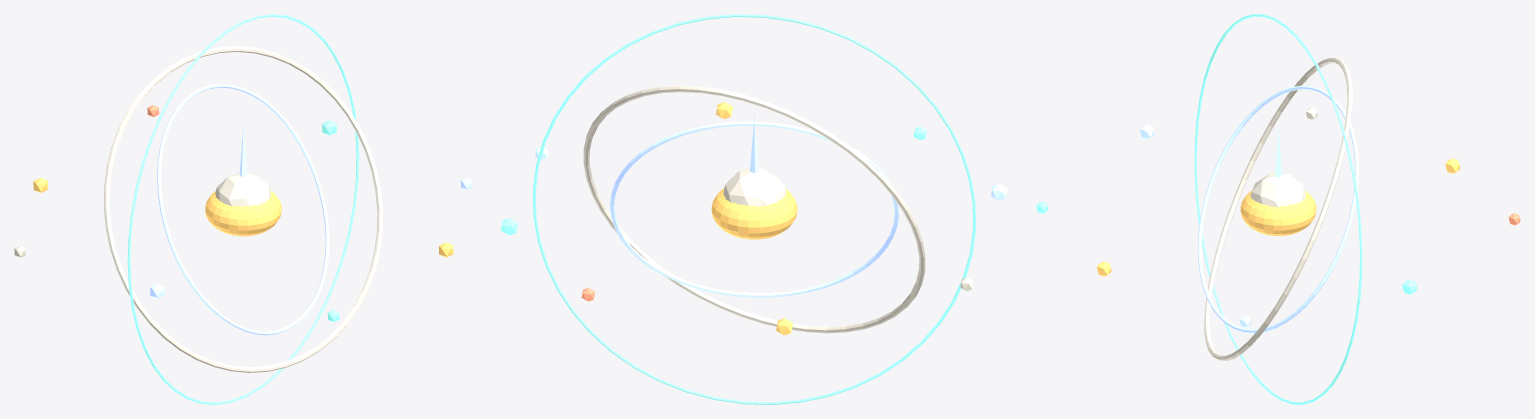
Rendered from lumina-observatory.glb.
The picture shows the model from 3 angles, left to right: view 1: azimuth 30°, elevation 25°; view 2: azimuth 150°, elevation 25°; view 3: azimuth 270°, elevation 25°; orthographic projection. The views are drawn at different scales.
Visible parts, largest first — view 1: LUMINA Orbit Primary, LUMINA Orbit Aurora, LUMINA Orbit Signal, LUMINA Lens Core, LUMINA Faceted Insight; view 2: LUMINA Orbit Primary, LUMINA Orbit Aurora, LUMINA Orbit Signal, LUMINA Lens Core, LUMINA Faceted Insight; view 3: LUMINA Orbit Primary, LUMINA Orbit Aurora, LUMINA Orbit Signal, LUMINA Lens Core, LUMINA Faceted Insight.
Boxes of the visible parts, box(x1,y1,x2,y2) form: LUMINA Orbit Primary: box(104, 46, 382, 372); LUMINA Orbit Aurora: box(127, 14, 359, 404); LUMINA Orbit Signal: box(157, 83, 329, 335); LUMINA Lens Core: box(205, 191, 281, 236); LUMINA Faceted Insight: box(215, 173, 271, 206); LUMINA Orbit Primary: box(583, 85, 925, 333); LUMINA Orbit Aurora: box(533, 14, 975, 404); LUMINA Orbit Signal: box(610, 121, 898, 297); LUMINA Lens Core: box(711, 188, 797, 239); LUMINA Faceted Insight: box(723, 168, 785, 206); LUMINA Orbit Primary: box(1204, 58, 1352, 360); LUMINA Orbit Aurora: box(1194, 14, 1362, 404); LUMINA Orbit Signal: box(1198, 85, 1358, 333); LUMINA Lens Core: box(1240, 190, 1316, 235); LUMINA Faceted Insight: box(1250, 173, 1305, 207).
Bounding box in the file's own units: 4.31 × 3.49 × 4.3.
